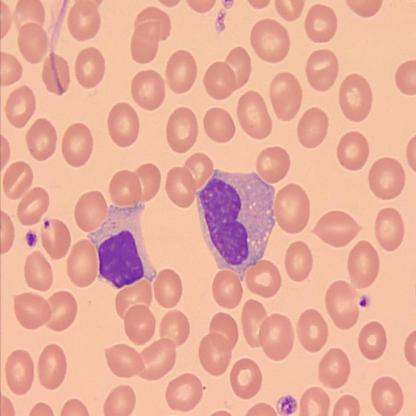Monocyte: (194, 166, 277, 284), (85, 200, 159, 290)
